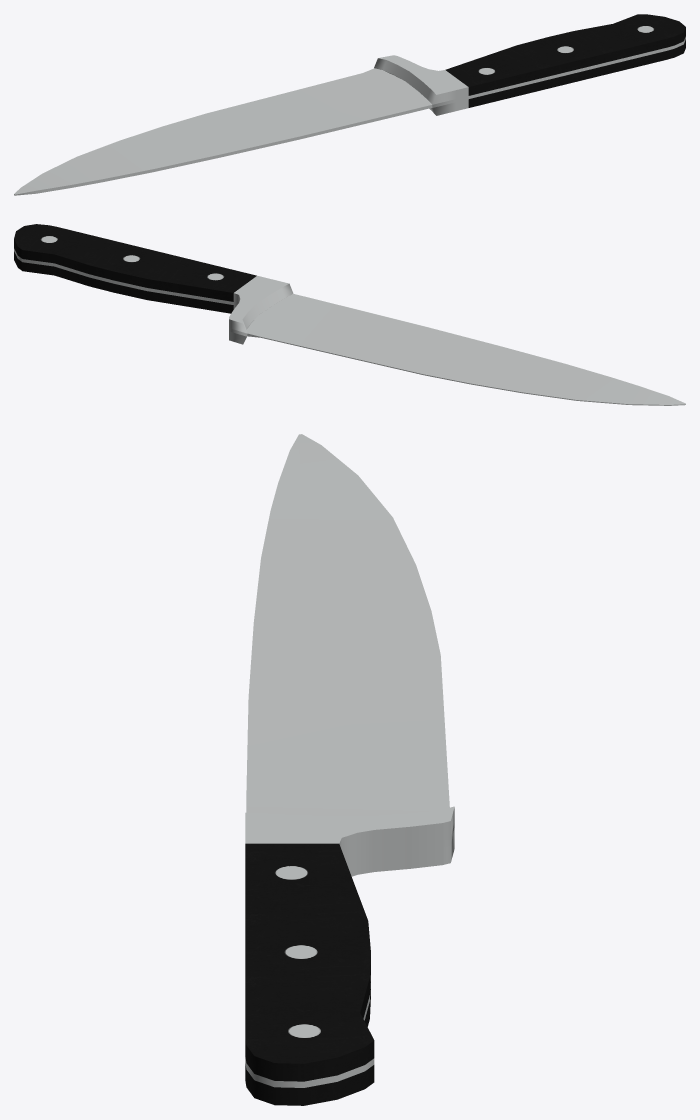
The model's file is chefs_knife.obj.
3 renders of one model, top to bottom at view 1: azimuth 30°, elevation 25°; view 2: azimuth 150°, elevation 25°; view 3: azimuth 270°, elevation 25°, orthographic. The views are drawn at different scales.
Size of the model in its own units: 0.26 by 0.00785 by 0.0354.
Materials: 1 (1 with a texture image).
